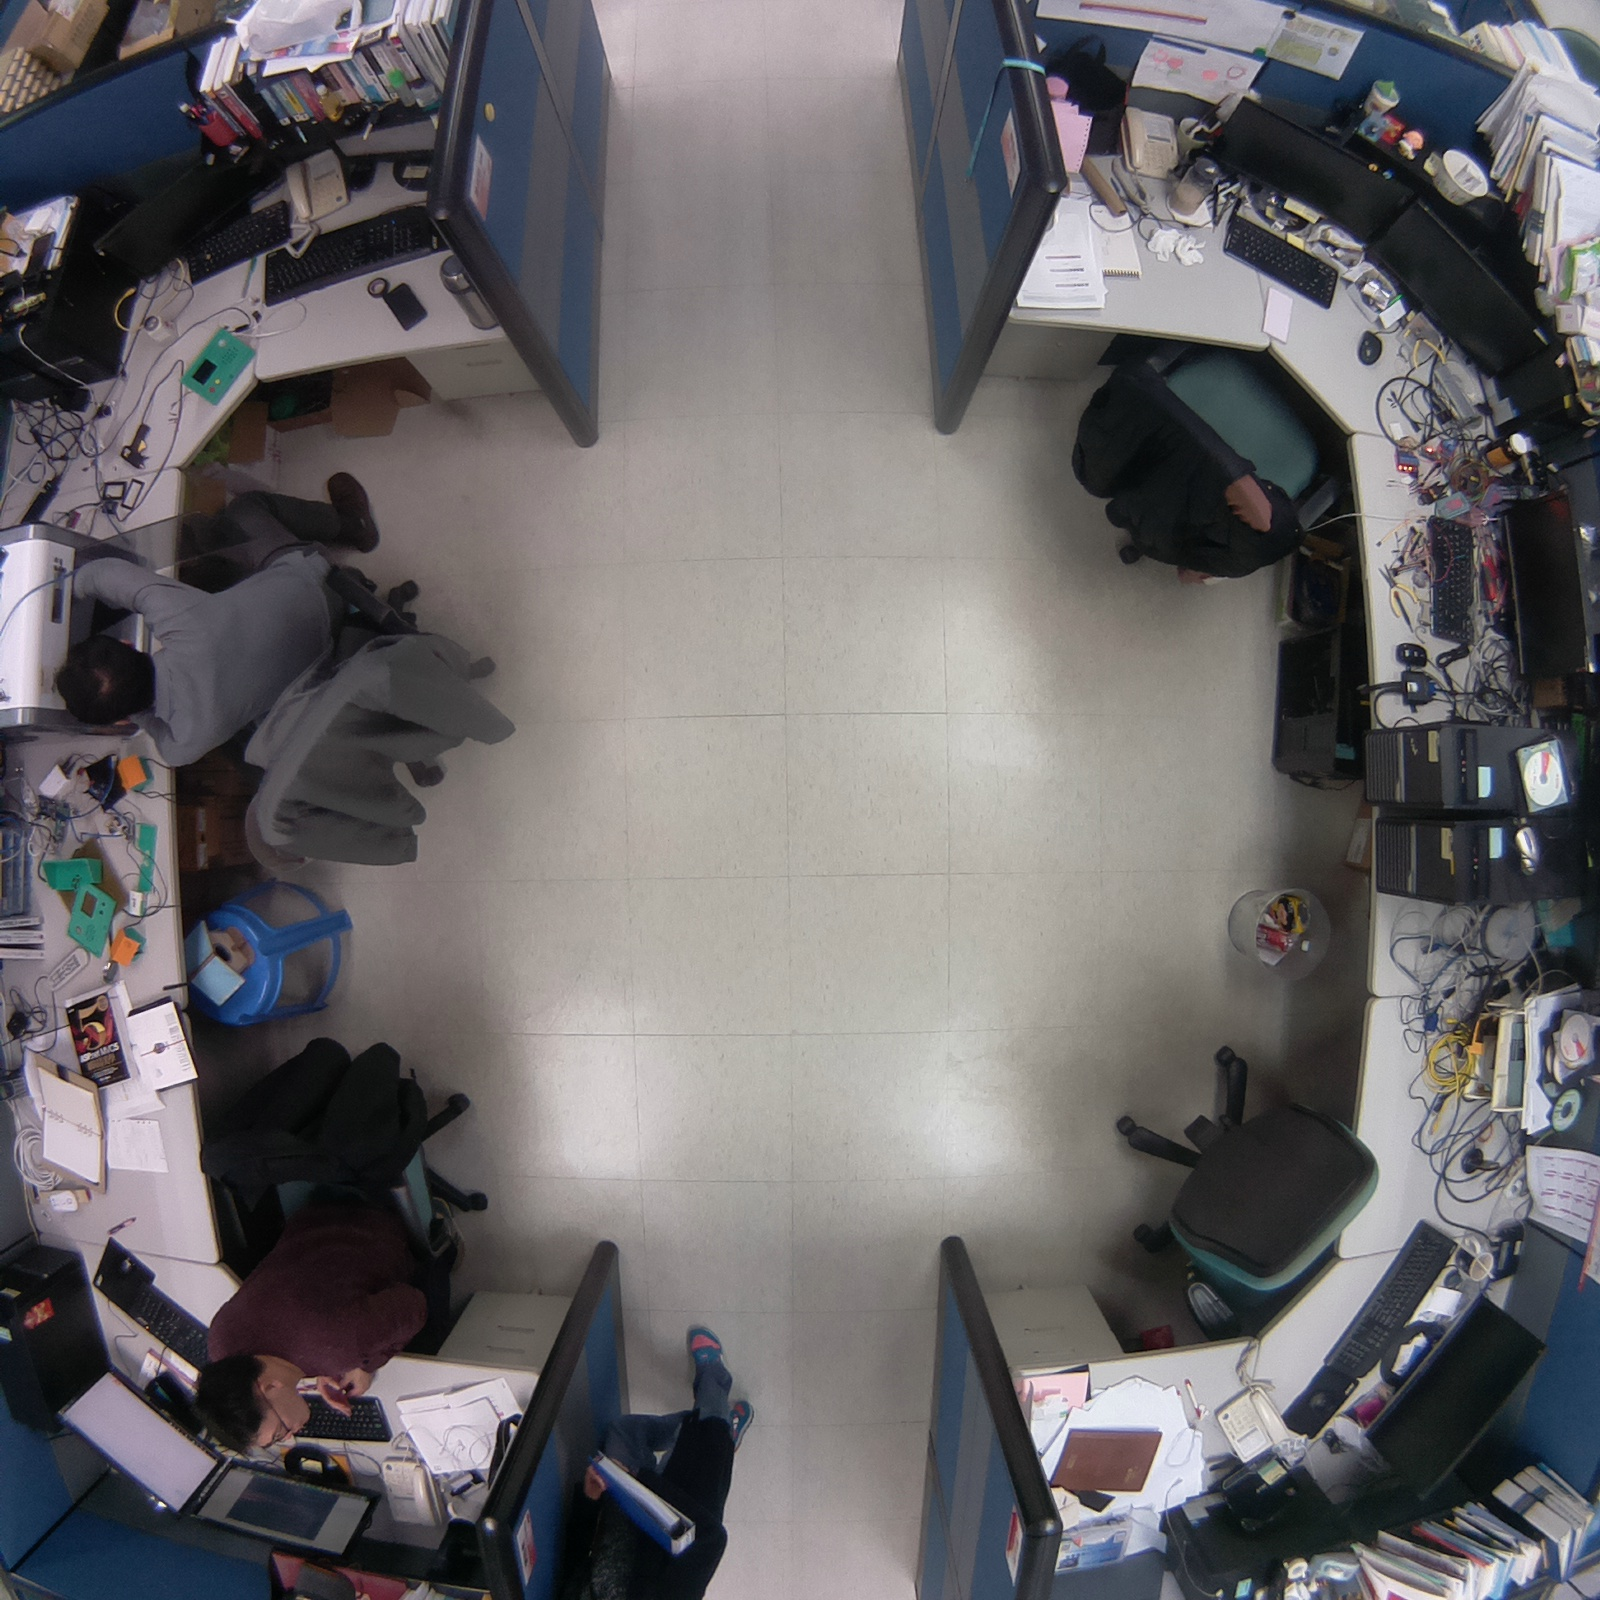chair: (1092, 1027, 1404, 1347), (1061, 319, 1360, 595)
sitting: (41, 459, 527, 881), (174, 1027, 508, 1467)
standing: (541, 1303, 782, 1600)
